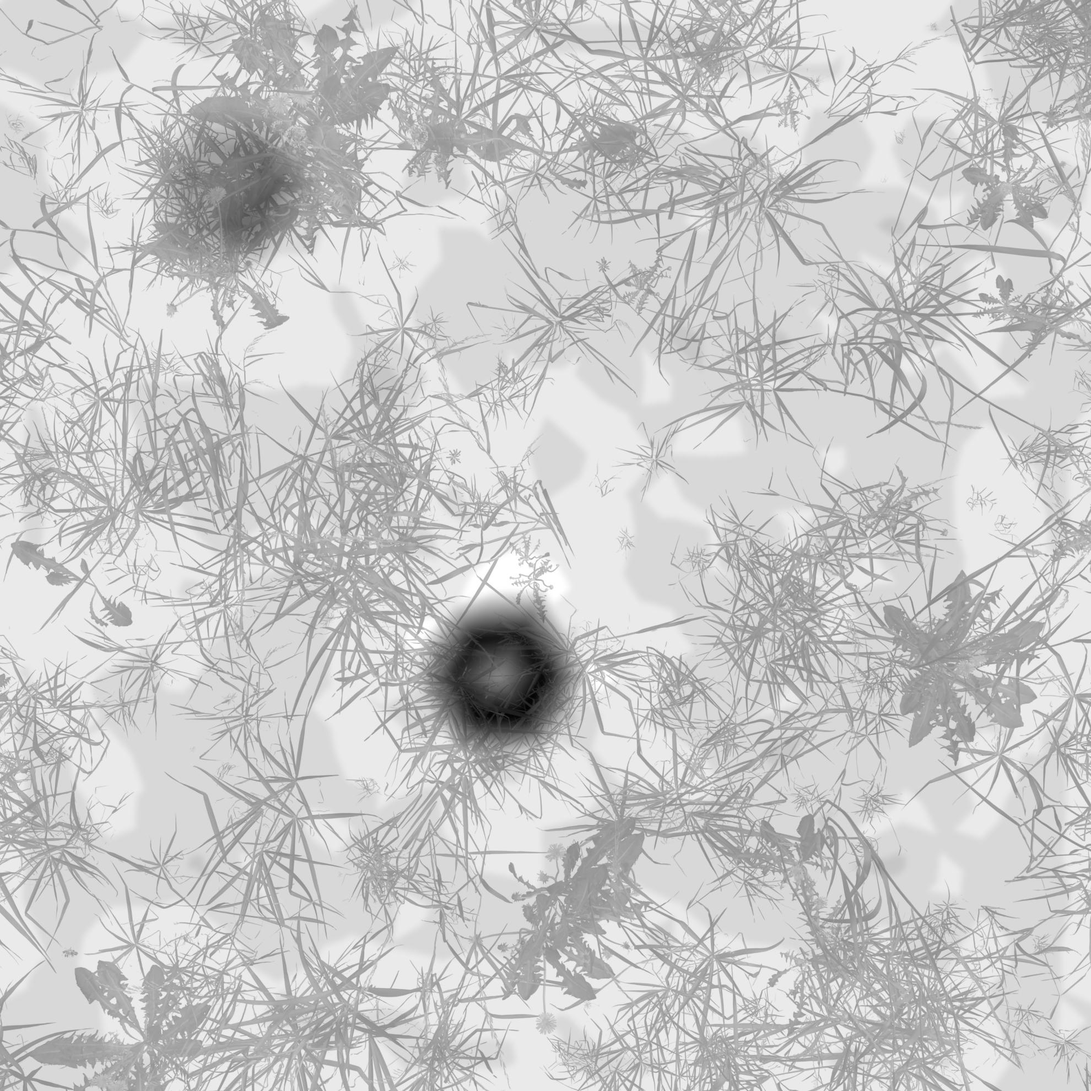landmine: (433, 600, 580, 758)
